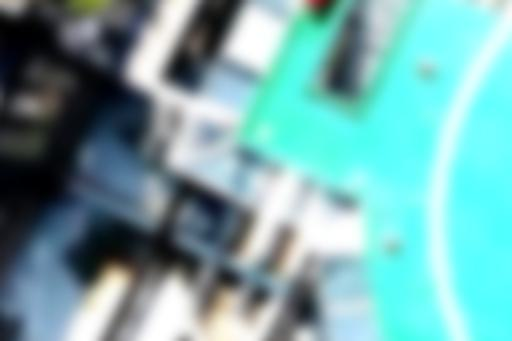Apron: (427, 1, 511, 341)
